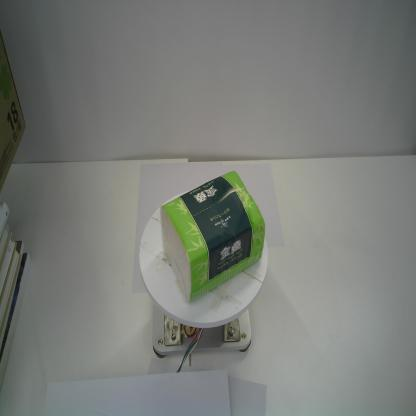Tissue: (159, 169, 266, 304)
